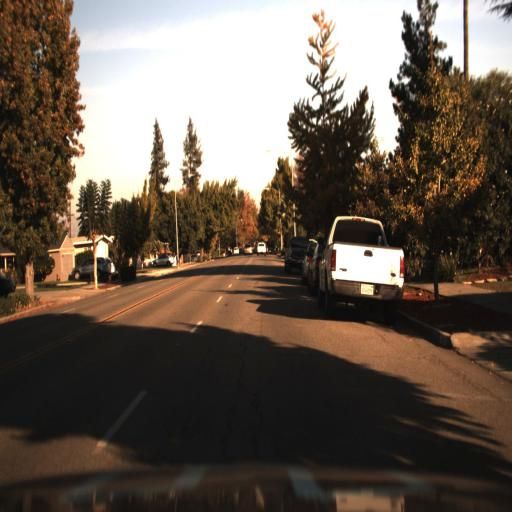car: (318, 211, 408, 332), (67, 252, 117, 284), (70, 255, 118, 278), (150, 248, 177, 270)
